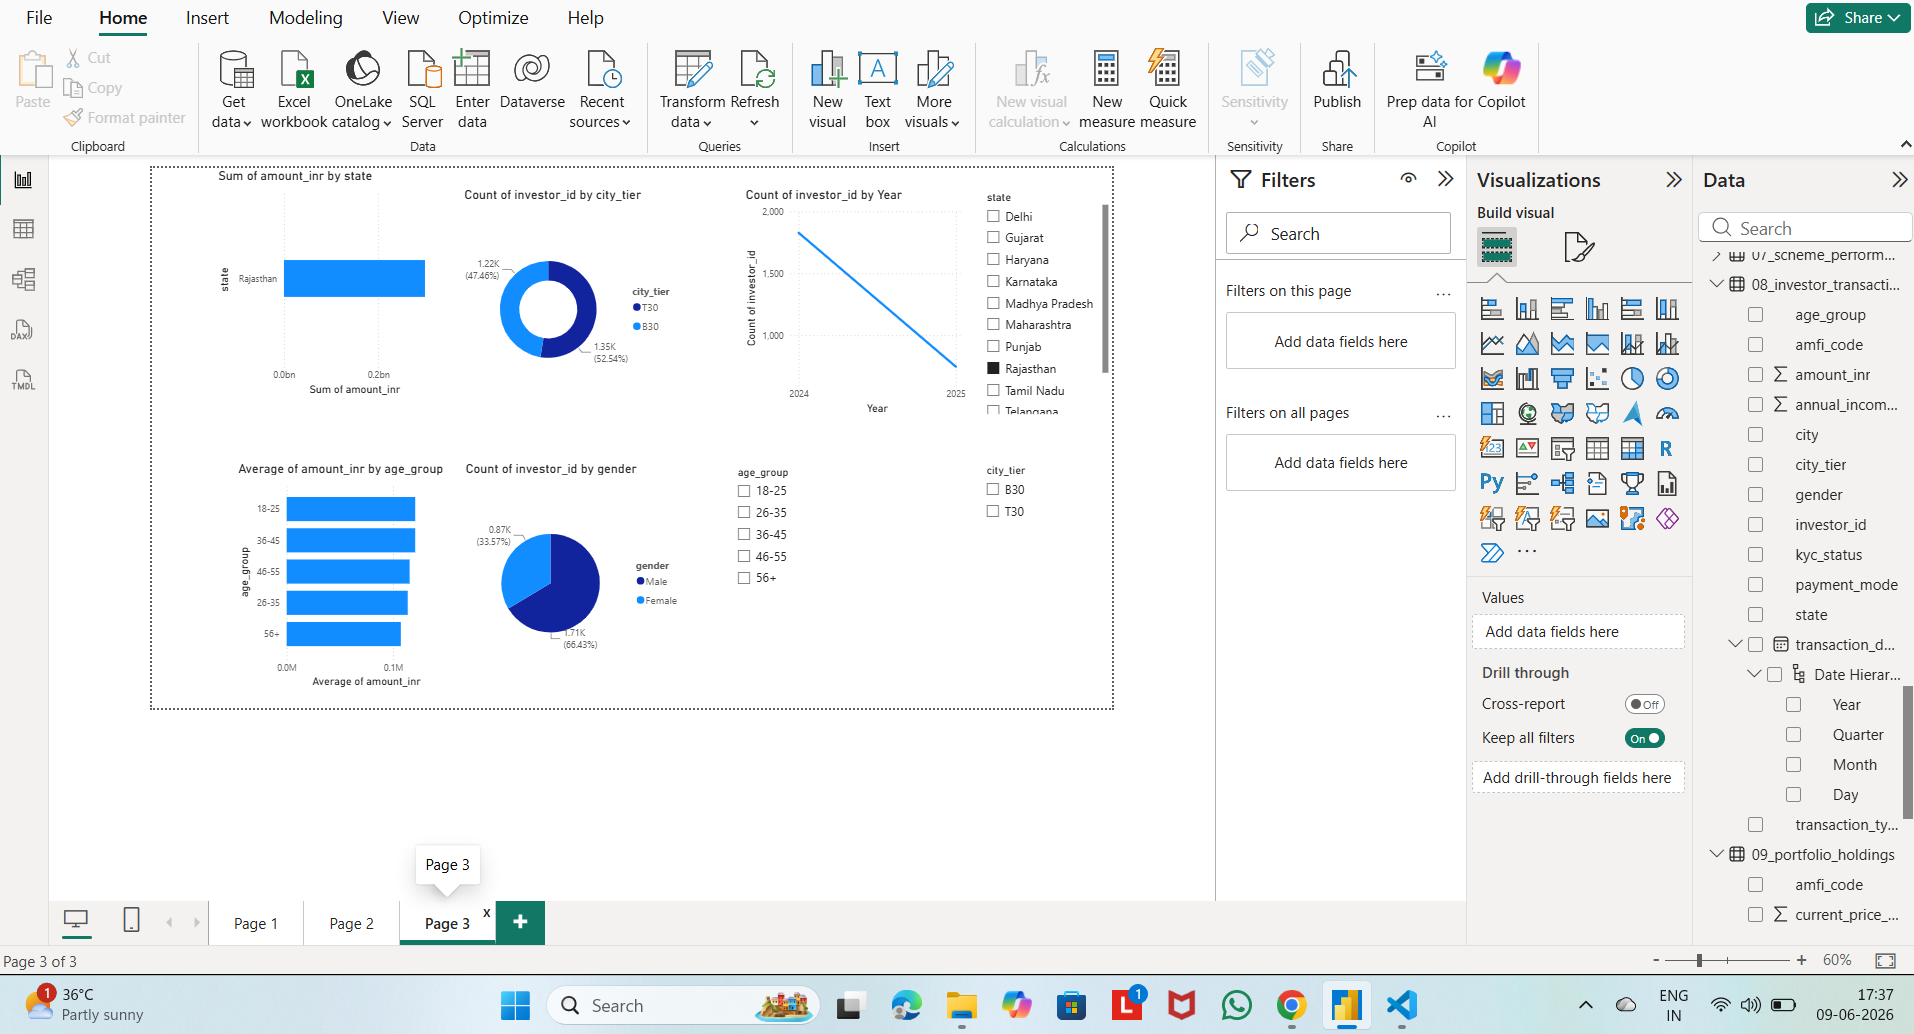

This screenshot's page, from the dashboard's own definition file:
{"tool":"powerbi","page":{"name":"page3_investor_analytics.png","canvas":[1280,720],"ordinal":2},"visuals":[{"type":"clusteredBarChart","fields":{"Category":["08_investor_transactions.state"],"Y":["Sum(08_investor_transactions.amount_inr)"]},"box":[0,0,301.7,308.3],"z":0},{"type":"clusteredBarChart","fields":{"Category":["08_investor_transactions.age_group"],"Y":["Avg(08_investor_transactions.amount_inr)"]},"box":[0,390,350,308.3],"z":1},{"type":"donutChart","fields":{"Category":["08_investor_transactions.city_tier"],"Y":["CountNonNull(08_investor_transactions.investor_id)"]},"box":[411.7,25,301.7,308.3],"z":2},{"type":"pieChart","fields":{"Category":["08_investor_transactions.gender"],"Y":["CountNonNull(08_investor_transactions.investor_id)"]},"box":[413.3,390,301.7,308.3],"z":3},{"type":"lineChart","fields":{"Category":["08_investor_transactions.transaction_date.Variation.Date Hierarchy.Year","08_investor_transactions.transaction_date.Variation.Date Hierarchy.Quarter","08_investor_transactions.transaction_date.Variation.Date Hierarchy.Month","08_investor_transactions.transaction_date.Variation.Date Hierarchy.Day"],"Y":["CountNonNull(08_investor_transactions.investor_id)"]},"box":[786.7,25,303.3,308.3],"z":4},{"type":"slicer","fields":{"Values":["08_investor_transactions.state"]},"box":[1100,25,180,308],"z":5},{"type":"slicer","fields":{"Values":["08_investor_transactions.age_group"]},"box":[768.3,391.7,303.3,308.3],"z":6},{"type":"slicer","fields":{"Values":["08_investor_transactions.city_tier"]},"box":[1100,390,180,308],"z":7}]}

Visuals, with their boxes on the page's 1280x720 design canvas (x1, y1, x2, y2). These are canvas units, not pixel positions in the 1914x1034 screenshot, which may show the page scaled, cropped or inside an application window:
clusteredBarChart - 08_investor_transactions.state x Sum(08_investor_transactions.amount_inr): select_region(0, 0, 302, 308)
clusteredBarChart - 08_investor_transactions.age_group x Avg(08_investor_transactions.amount_inr): select_region(0, 390, 350, 698)
donutChart - 08_investor_transactions.city_tier x CountNonNull(08_investor_transactions.investor_id): select_region(412, 25, 713, 333)
pieChart - 08_investor_transactions.gender x CountNonNull(08_investor_transactions.investor_id): select_region(413, 390, 715, 698)
lineChart - 08_investor_transactions.transaction_date.Variation.Date Hierarchy.Year x 08_investor_transactions.transaction_date.Variation.Date Hierarchy.Quarter: select_region(787, 25, 1090, 333)
slicer - 08_investor_transactions.state: select_region(1100, 25, 1280, 333)
slicer - 08_investor_transactions.age_group: select_region(768, 392, 1072, 700)
slicer - 08_investor_transactions.city_tier: select_region(1100, 390, 1280, 698)
